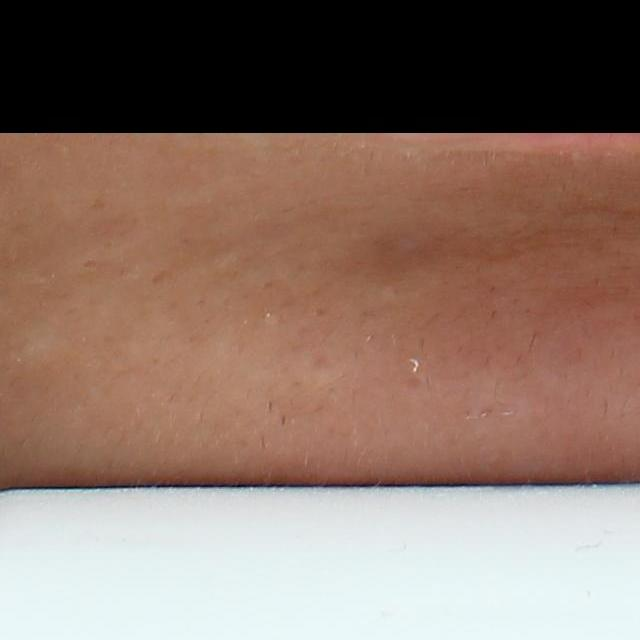hypertrophic_scar: (9, 329, 80, 383)
